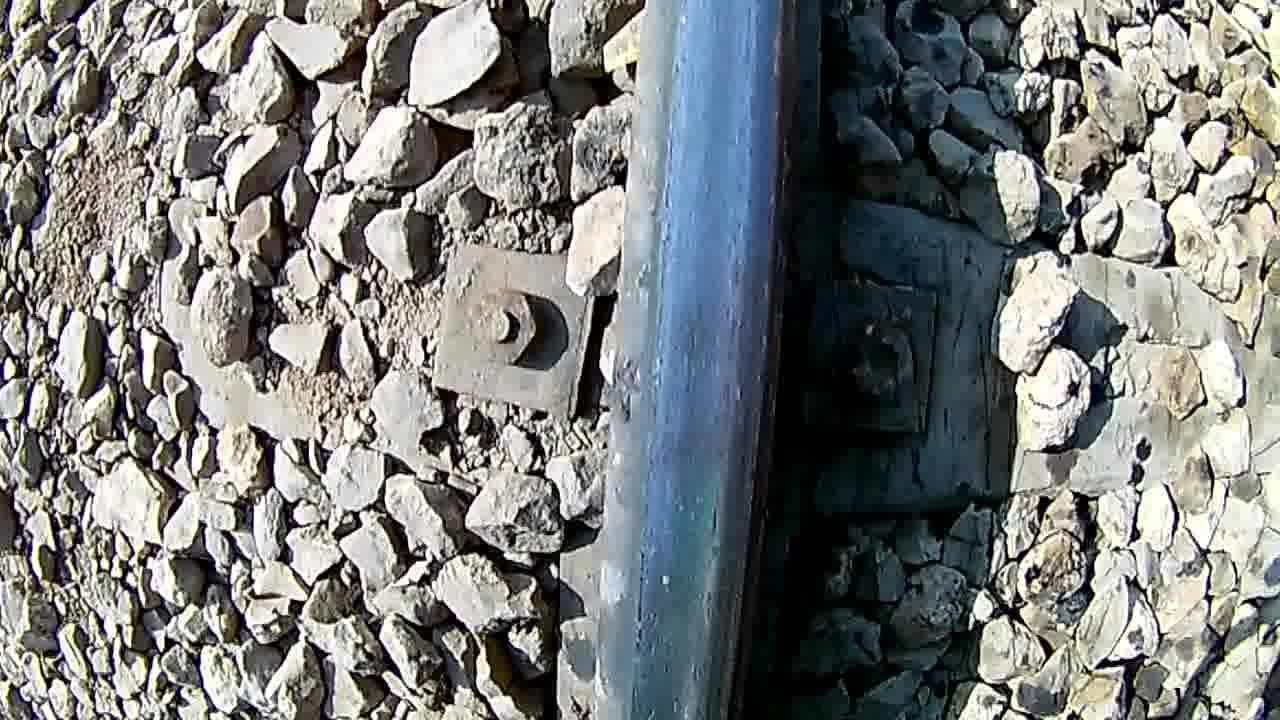clip_missing: (587, 0, 805, 720)
